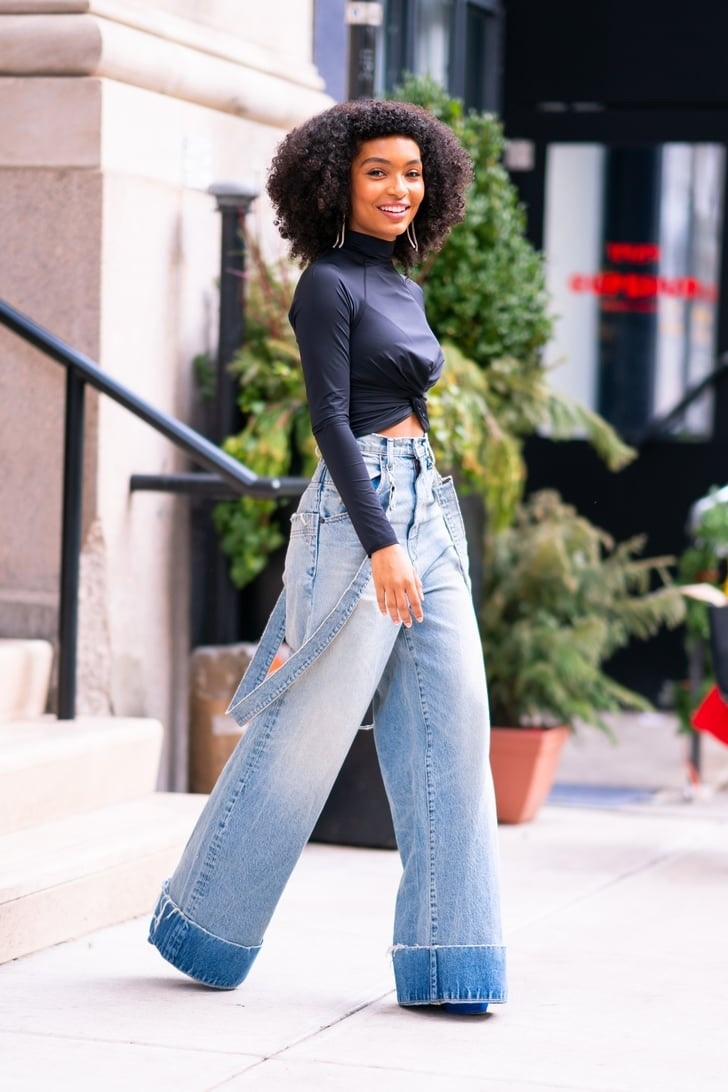face_no_mask: (325, 104, 426, 235)
